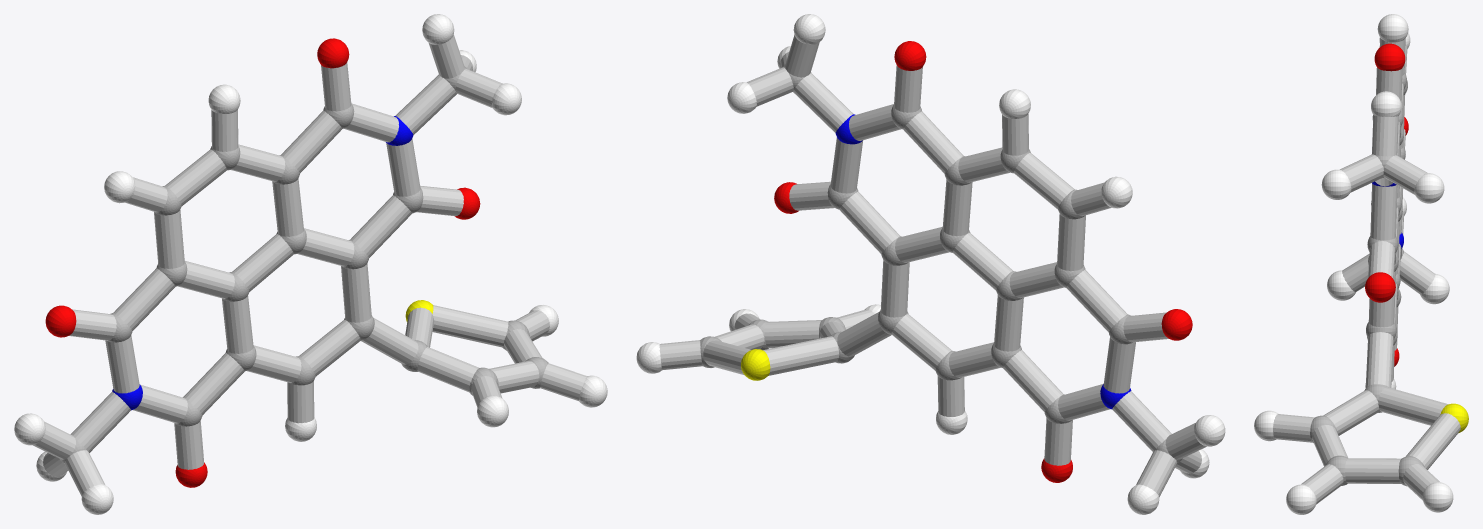
File: Dimethyl_Naphthalene_Dicarboximide_Phi_25_Theta_100_Thiophene.glb
The picture shows the model from 3 angles, left to right: view 1: azimuth 30°, elevation 25°; view 2: azimuth 150°, elevation 25°; view 3: azimuth 270°, elevation 25°; orthographic projection. The views are drawn at different scales.
Visible parts, largest first — view 1: grp14119, grp7241, grp1, grp12309, grp11585; view 2: grp14119, grp7241, grp1, grp12309, grp13757, grp11585; view 3: grp14119, grp7241, grp1, grp12309, grp13757.
Boxes of the visible parts, x1=… form: grp14119: x1=33, y1=34, x2=587, y2=496; grp7241: x1=14, y1=14, x2=607, y2=514; grp1: x1=60, y1=66, x2=548, y2=463; grp12309: x1=45, y1=38, x2=480, y2=487; grp11585: x1=112, y1=116, x2=413, y2=410; grp14119: x1=659, y1=35, x2=1206, y2=496; grp7241: x1=636, y1=14, x2=1225, y2=514; grp1: x1=700, y1=64, x2=1182, y2=463; grp12309: x1=774, y1=41, x2=1192, y2=482; grp13757: x1=741, y1=349, x2=770, y2=380; grp11585: x1=835, y1=114, x2=1131, y2=409; grp14119: x1=1273, y1=37, x2=1460, y2=504; grp7241: x1=1254, y1=14, x2=1453, y2=514; grp1: x1=1310, y1=73, x2=1424, y2=486; grp12309: x1=1365, y1=43, x2=1408, y2=366; grp13757: x1=1440, y1=403, x2=1468, y2=433.
Bounding box in the file's own units: 12.18 × 8.44 × 4.18.
